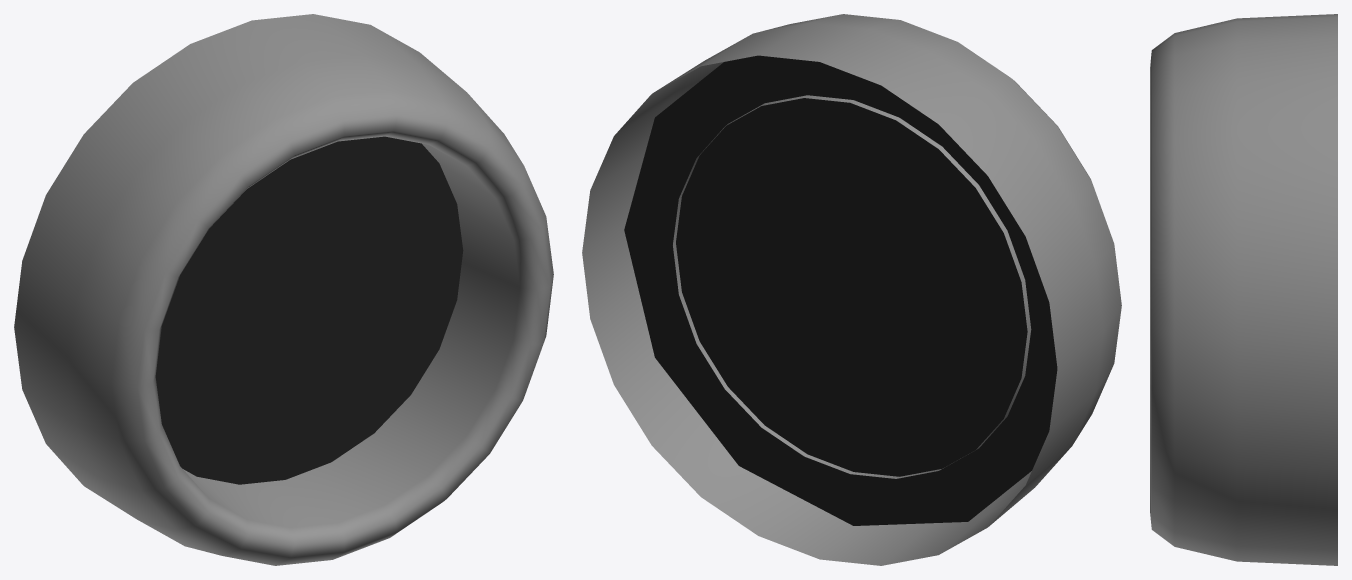
File: cooler_001.fbx
The picture shows the model from 3 angles, left to right: view 1: azimuth 30°, elevation 25°; view 2: azimuth 150°, elevation 25°; view 3: azimuth 270°, elevation 25°; orthographic projection.
Visible parts, largest first — view 1: cooler_001; view 2: cooler_001; view 3: cooler_001.
Part boxes in pixels (box(x1,y1,x2,y2)): cooler_001: box(14, 14, 553, 565); cooler_001: box(582, 14, 1121, 565); cooler_001: box(1150, 14, 1337, 565).
Size of the model in its own units: 1134 by 384 by 1134.
